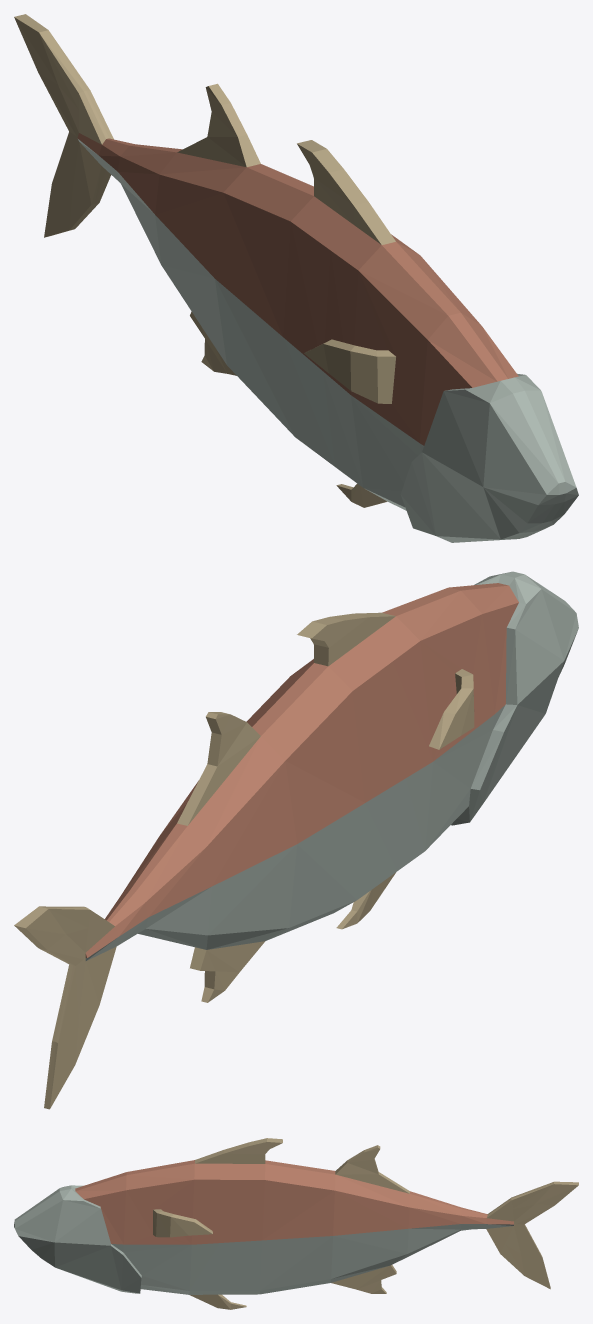
File: pond-fish-orange.glb
The picture shows the model from 3 angles, top to bottom: view 1: azimuth 30°, elevation 25°; view 2: azimuth 150°, elevation 25°; view 3: azimuth 270°, elevation 25°; orthographic projection. The views are drawn at different scales.
Visible parts, largest first — view 1: Fish; view 2: Fish; view 3: Fish.
Part boxes in pixels (<box>): Fish: <box>14,14,578,542</box>; Fish: <box>14,571,578,1109</box>; Fish: <box>14,1138,578,1309</box>.
Size of the model in its own units: 0.1439 by 0.3303 by 1.
